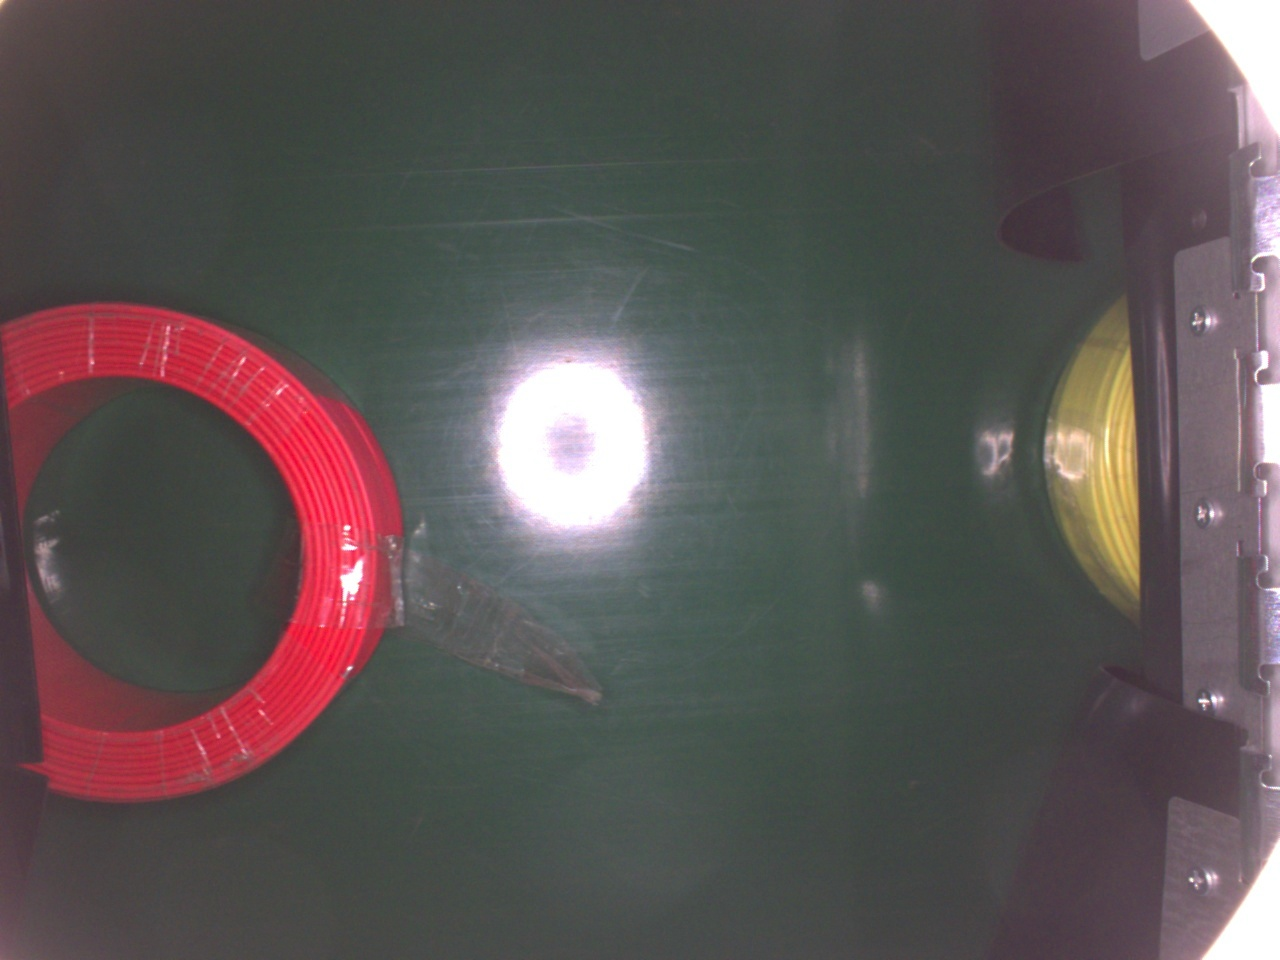red: (0, 302, 403, 803)
